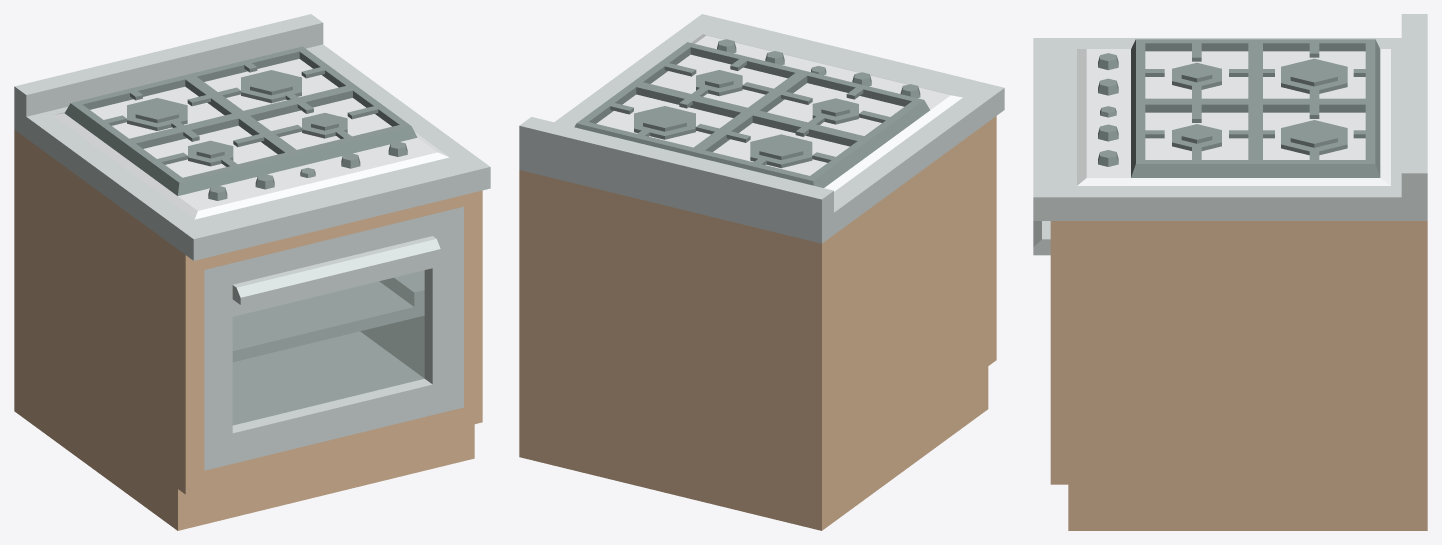
The model's file is kitchen-stove.glb.
The picture shows the model from 3 angles, left to right: view 1: azimuth 30°, elevation 25°; view 2: azimuth 150°, elevation 25°; view 3: azimuth 270°, elevation 25°; orthographic projection. The views are drawn at different scales.
Visible parts, largest first — view 1: kitchenStove(Clone), door; view 2: kitchenStove(Clone); view 3: kitchenStove(Clone).
Boxes of the visible parts, x1,y1,x2,y2 form: kitchenStove(Clone): (14,14,490,530); door: (232,270,424,425); kitchenStove(Clone): (519,14,1004,530); kitchenStove(Clone): (1033,14,1427,530).
Size of the model in its own units: 0.86 by 0.9 by 0.9.
Materials: 2 (2 with a texture image).
